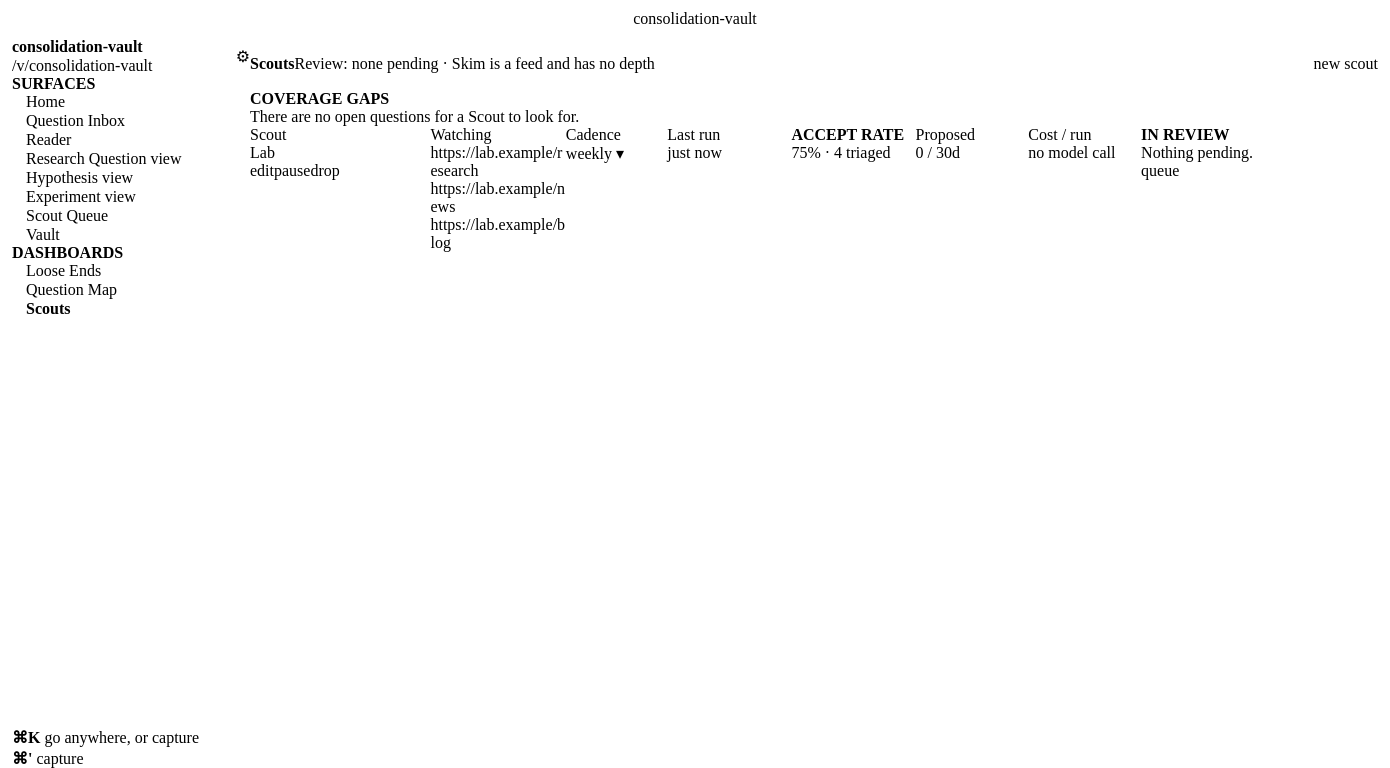
Test: the opened row of a Scout of several pages › lists nothing for a one-page Scout, whose headline is its page's
Click the button with aria-label "Lab: accept rate": (841, 153) [791, 144, 890, 162]
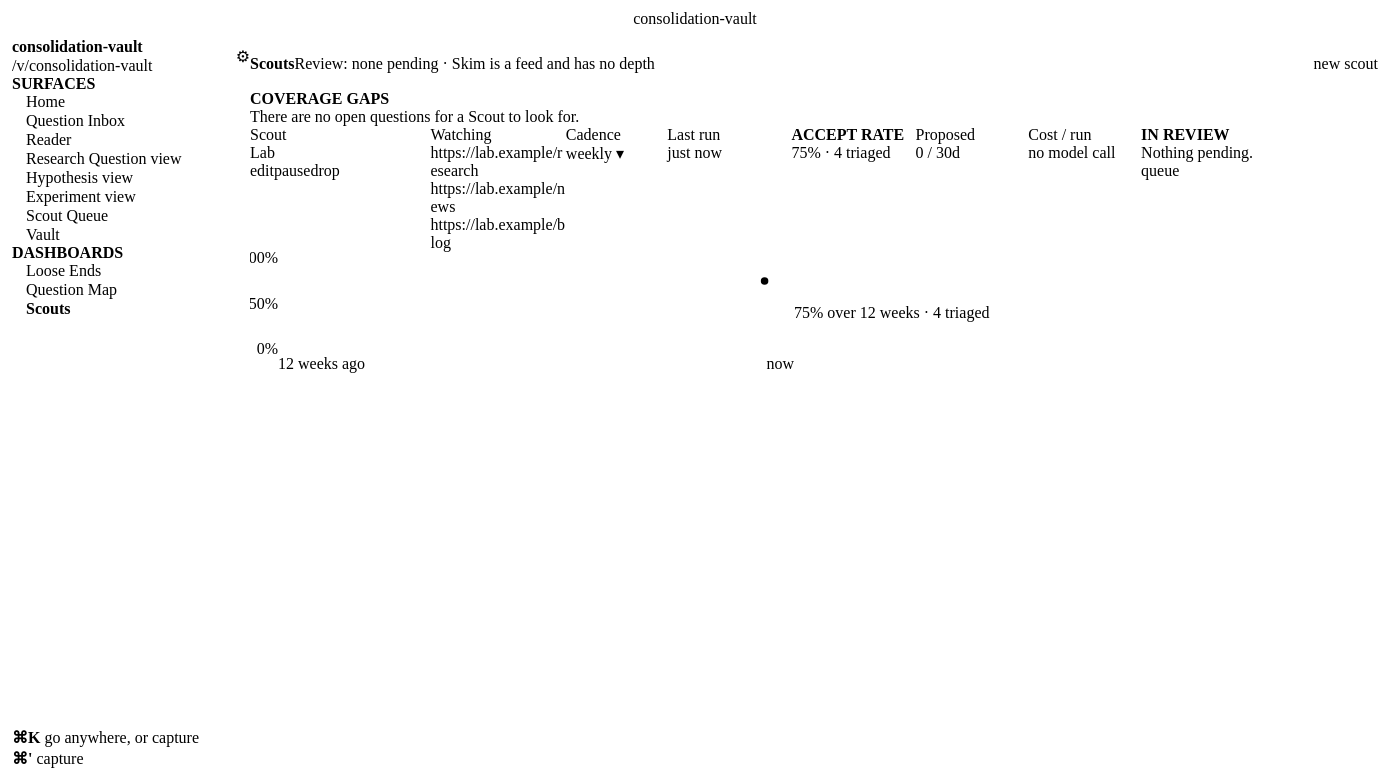
Result: the text "75% over 12 weeks · 4 triaged" is shown at [794, 304, 990, 322]
